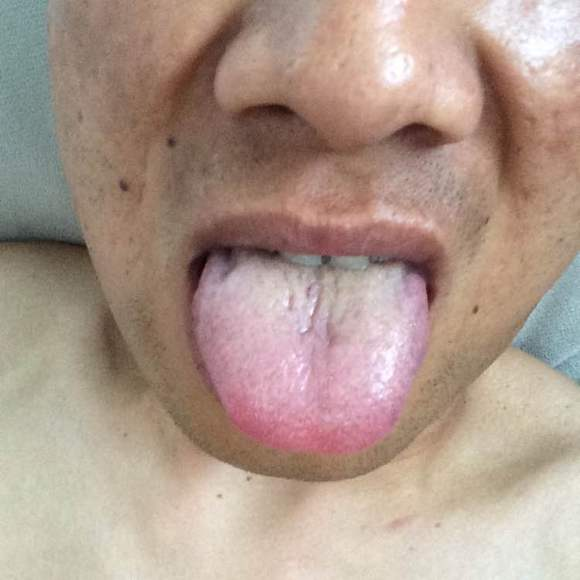baitaishe: (193, 247, 428, 455)
hongshe: (193, 247, 428, 455)
liewenshe: (281, 268, 338, 347)
